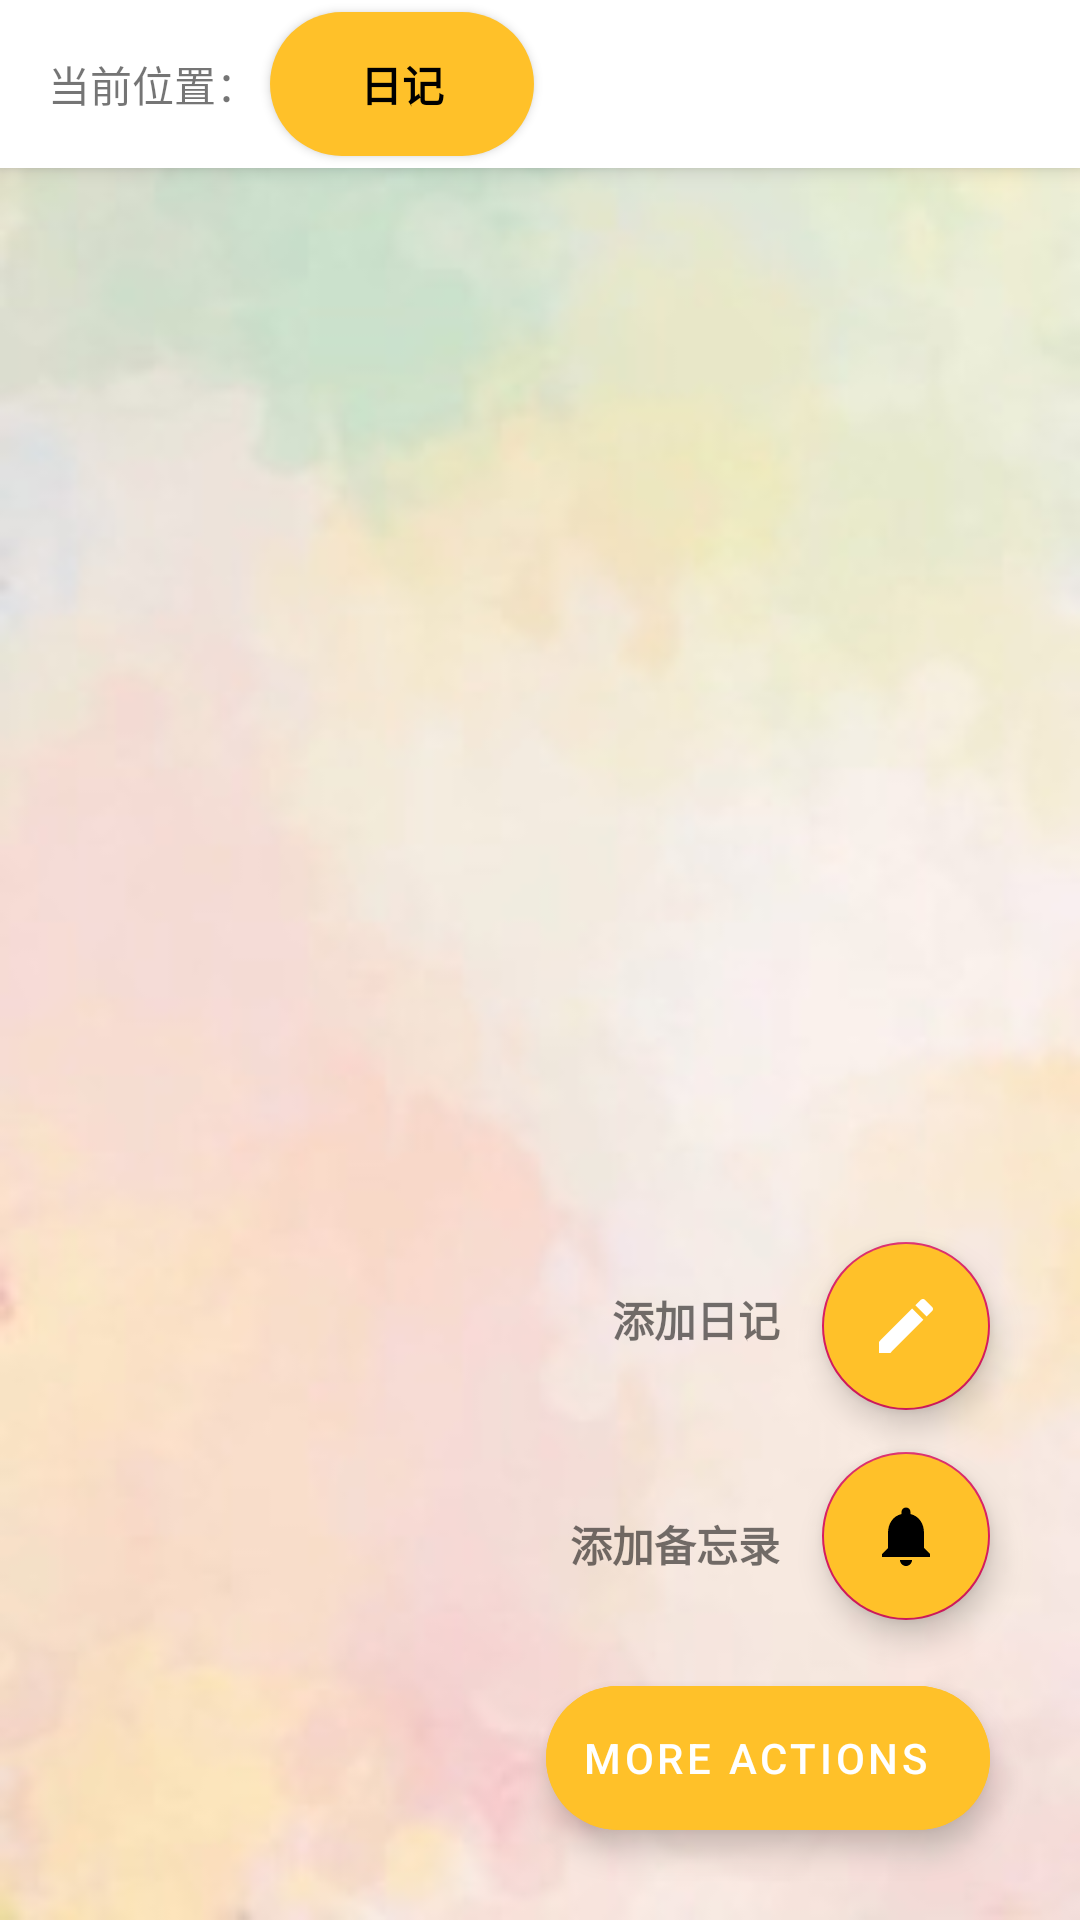

Where to tap for icons on this 1080 x 1920 app screen, as (x,y):
create: (906,1326)
notifications: (906,1536)
